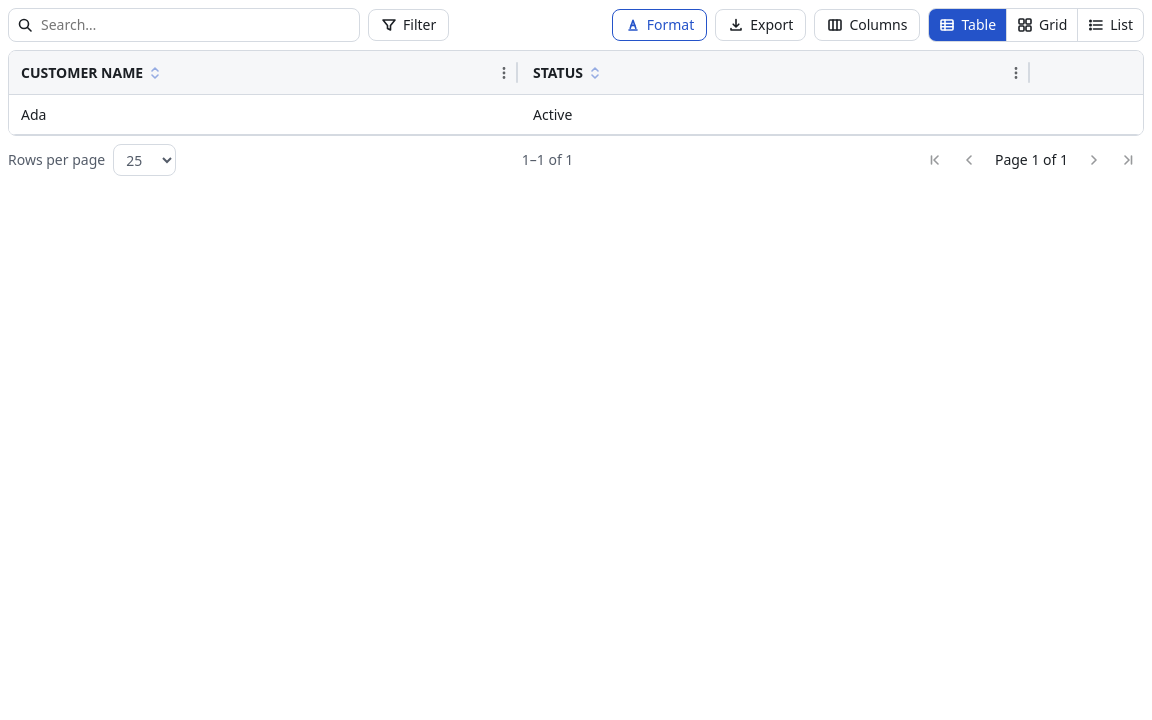
Scenario: header style › edits and deletes the header style from the formatting list
Click the button "Format": (660, 25) [612,9,707,41]
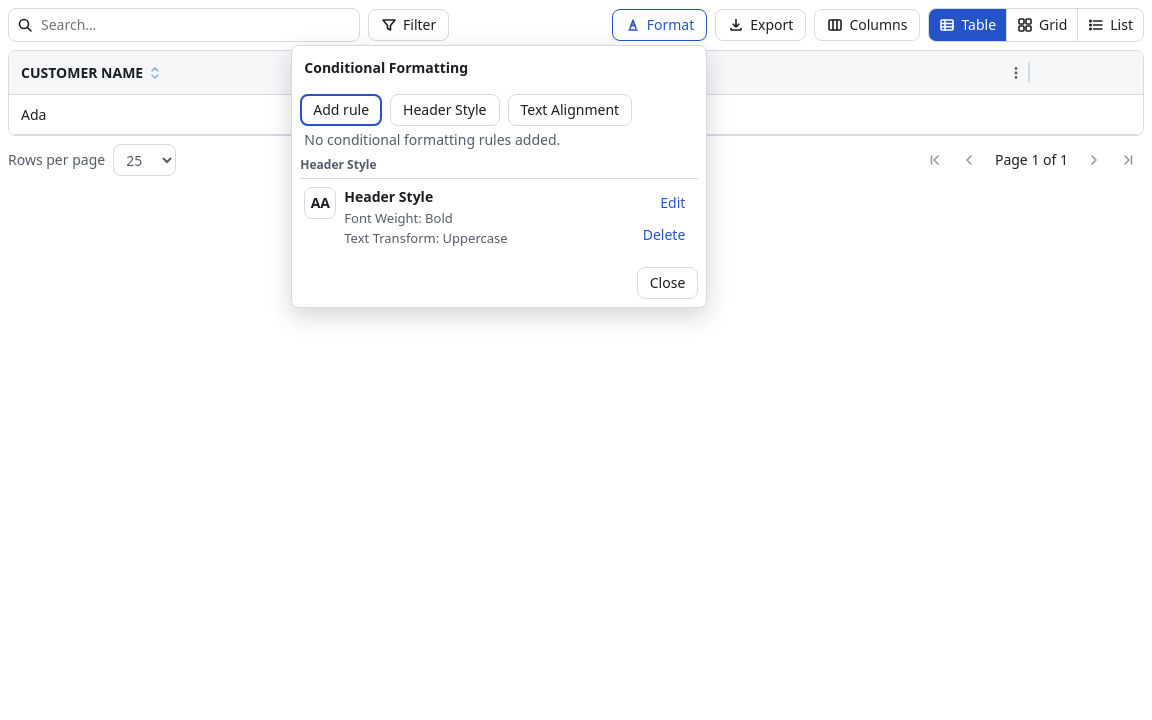
Check: the text "Text Transform: Uppercase" is shown, box [344,229,508,247]
Check: the text "Font Weight: Bold" is shown, box [344,209,453,227]
Click the button "Edit": (673, 203) [651,187,694,219]
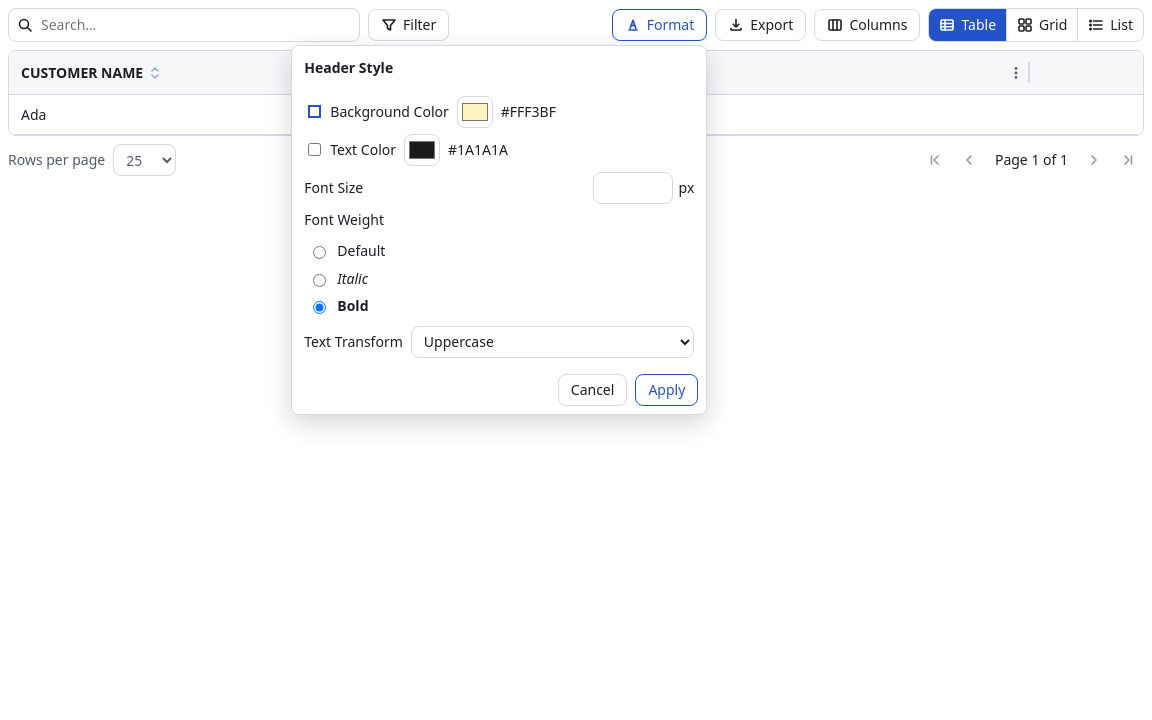
Select "Lowercase" in the dropdown labelled "Text Transform": (553, 342) [411,326,694,358]
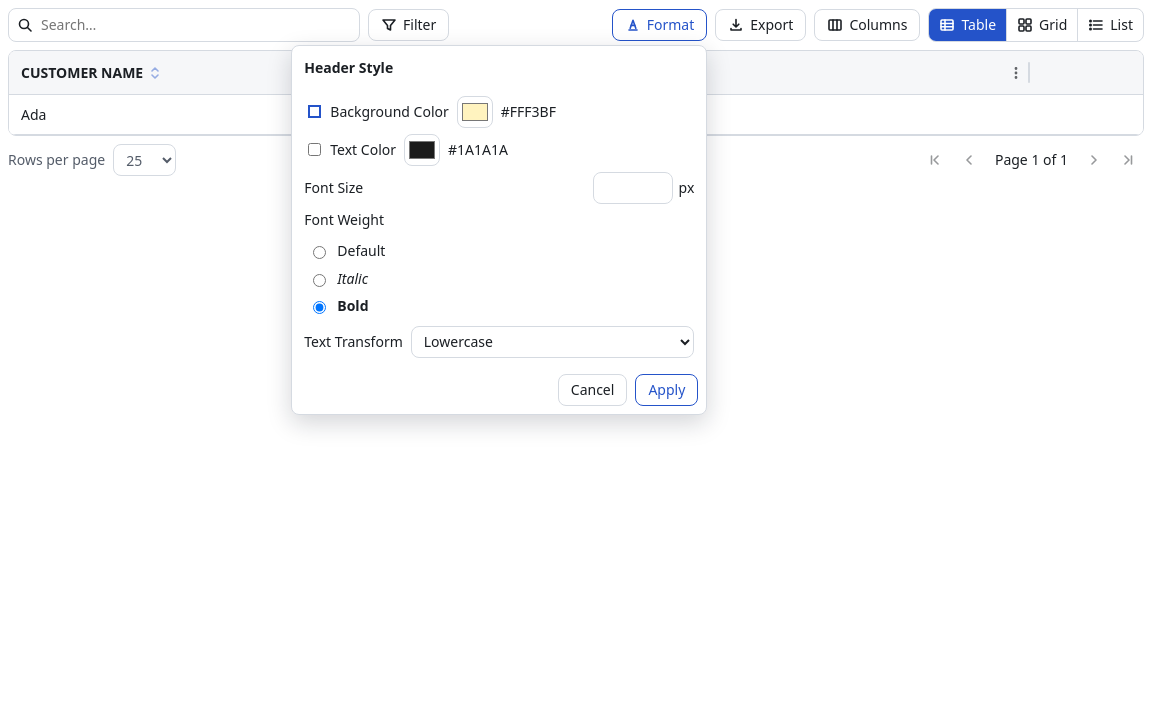
Click the button "Apply": (667, 390) [635,374,698,406]
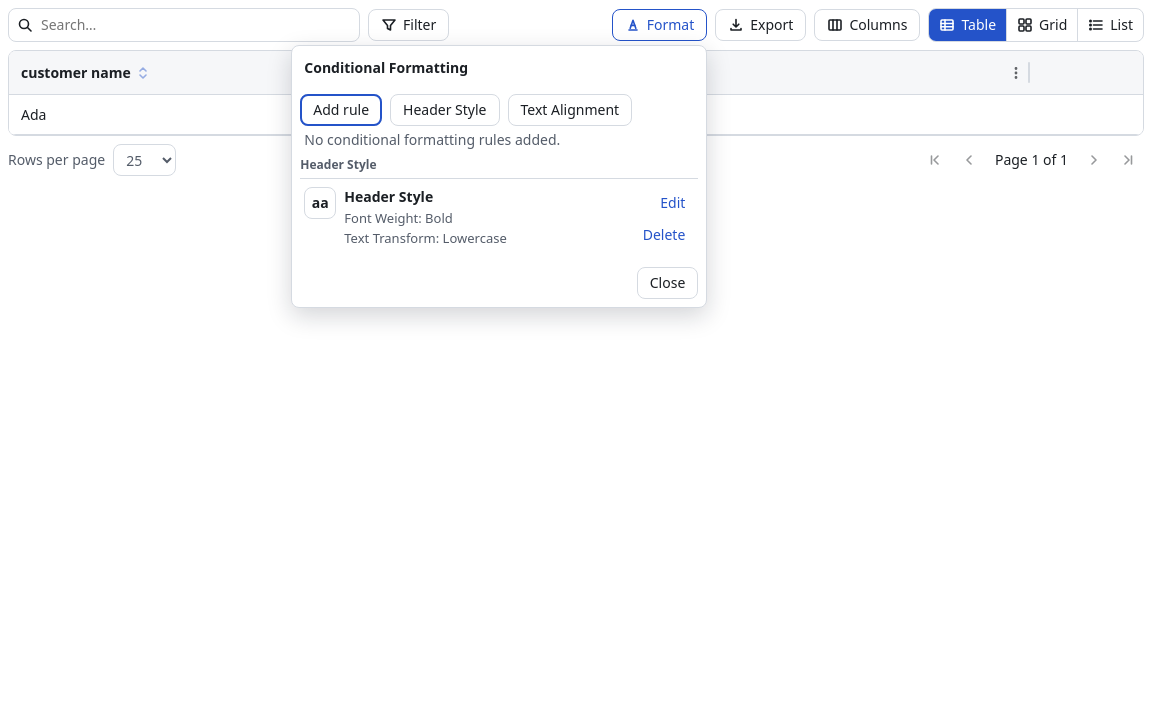
Check: the text "Text Transform: Lowercase" is shown, box [344,229,507,247]
Click the button with aria-label "Delete Header Style": (664, 235) [634,219,694,251]
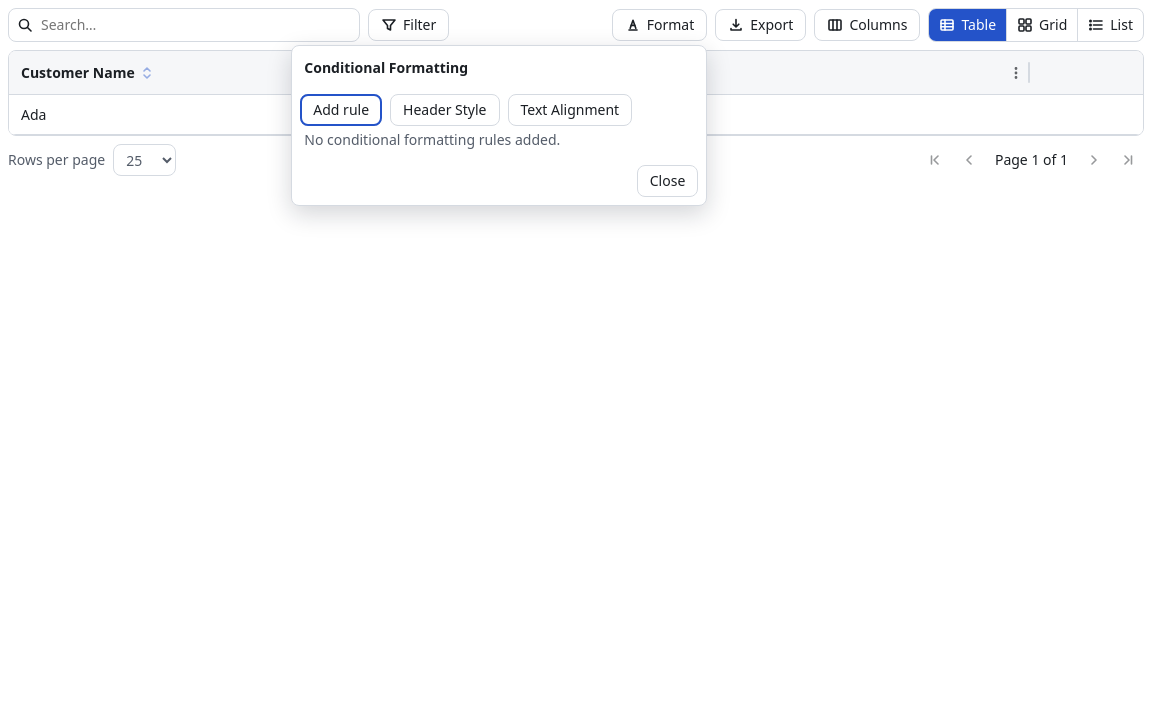
Check: the text "Text Transform: Lowercase" is gone
